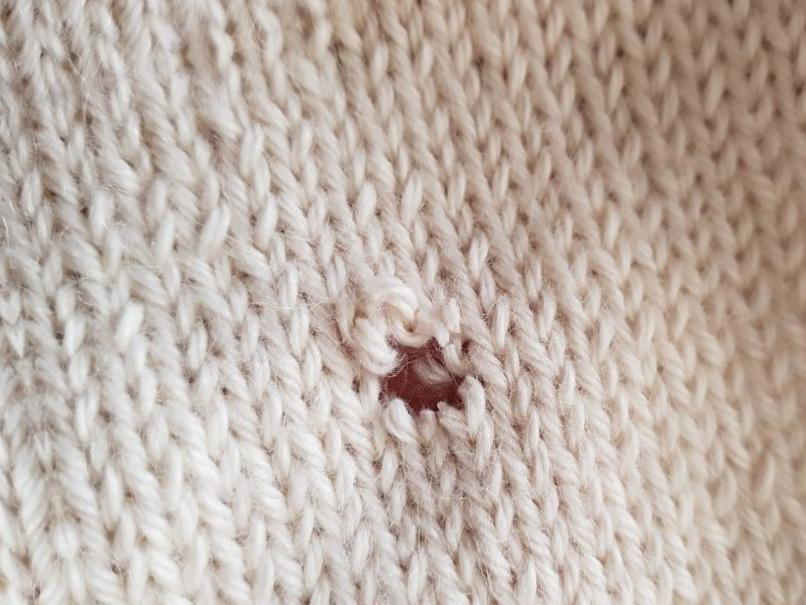hole: (370, 318, 487, 425)
